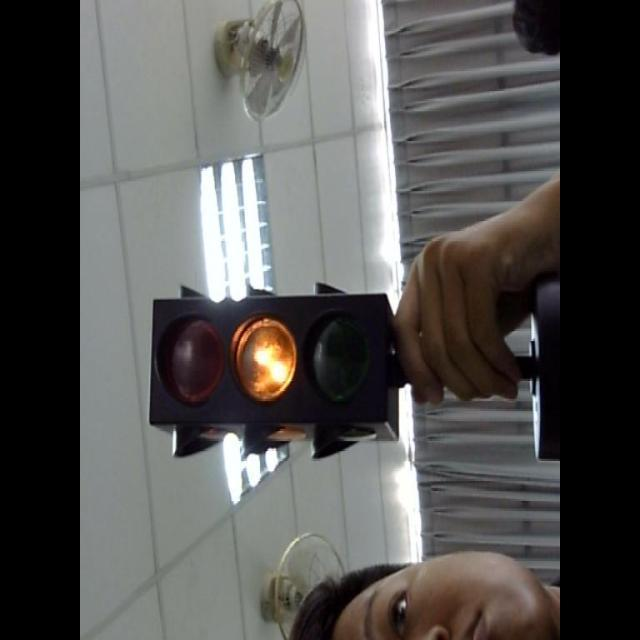yellow_light: (149, 292, 399, 437)
